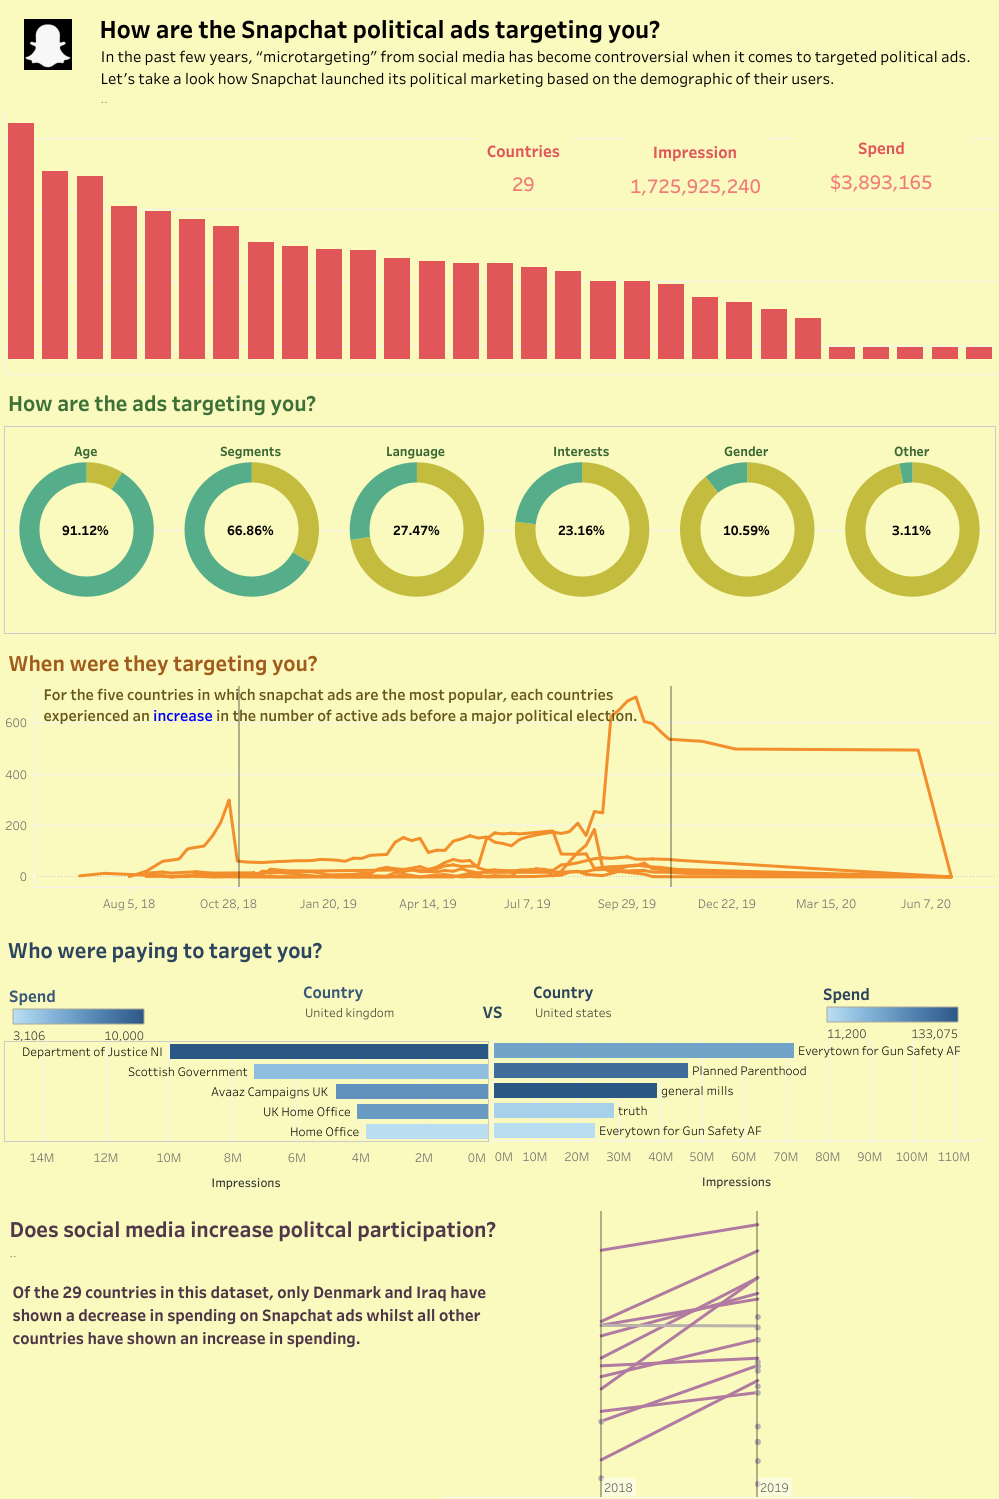

The dashboard page shown, as its layout file describes it:
{"tool":"tableau","page":{"name":"Dashboard 1","canvas":[1000,1500],"ordinal":0},"visuals":[{"type":"worksheet","box":[0,0,1000,1500]},{"type":"worksheet","param":"vert","box":[0,0,1000,1500]},{"type":"worksheet","param":"horz","box":[0,0,1000,1500]},{"type":"worksheet","param":"horz","box":[0,0,1000,1500]},{"type":"worksheet","box":[0,0,1000,1500]},{"type":"worksheet","box":[0,0,1000,106]},{"type":"worksheet","title":"Icon","mark":"Shape","box":[11,8,78,76]},{"type":"worksheet","box":[97,8,827,39]},{"type":"worksheet","box":[98,43,876,65]},{"type":"worksheet","title":"Number of ads","mark":"Automatic","rows":["Number of Ads"],"cols":["Country"],"box":[0,106,1000,272]},{"type":"worksheet","title":"Spend","mark":"Automatic","box":[792,130,196,69]},{"type":"worksheet","title":"Countries","mark":"Automatic","box":[475,133,106,77]},{"type":"worksheet","title":"Impression","mark":"Automatic","box":[625,134,156,83]},{"type":"worksheet","title":"Donut","mark":"Pie","rows":["Calculation_832321558678163458","Calculation_832321558684078087"],"cols":["Pivot Field Names"],"box":[0,378,1000,260]},{"type":"worksheet","title":"Time-based Targeting","mark":"Automatic","rows":["Calculation_832321558720765963"],"cols":["Pivot Field Values"],"box":[0,638,1000,283]},{"type":"worksheet","box":[41,663,644,81]},{"type":"worksheet","box":[5,916,329,66]},{"type":"worksheet","box":[0,921,1000,579]},{"type":"worksheet","title":"Bar2","mark":"Automatic","rows":["Country","Ad ID"],"cols":["Impressions"],"param":"[federated.1ss1n7v1ix2qau1dme7e10w2lf1o].[none:Country:nk]","box":[299,975,160,60]},{"type":"worksheet","title":"Bar1","mark":"Automatic","rows":["Ad ID"],"cols":["Impressions"],"param":"[federated.1ss1n7v1ix2qau1dme7e10w2lf1o].[sum:Spend:qk]","box":[823,978,140,76]},{"type":"worksheet","title":"Bar1","mark":"Automatic","rows":["Ad ID"],"cols":["Impressions"],"param":"[federated.1ss1n7v1ix2qau1dme7e10w2lf1o].[none:Country:nk]","box":[533,979,168,49]},{"type":"worksheet","title":"Bar2","mark":"Automatic","rows":["Country","Ad ID"],"cols":["Impressions"],"param":"[federated.1ss1n7v1ix2qau1dme7e10w2lf1o].[sum:Spend:qk]","box":[9,980,140,76]},{"type":"worksheet","box":[480,990,37,42]},{"type":"worksheet","title":"Bar1","mark":"Automatic","rows":["Ad ID"],"cols":["Impressions"],"box":[493,1040,508,178]},{"type":"worksheet","title":"Bar2","mark":"Automatic","rows":["Country","Ad ID"],"cols":["Impressions"],"box":[4,1041,485,160]},{"type":"worksheet","title":"Slope","mark":"Automatic","rows":["Spend"],"cols":["StartDate"],"box":[444,1211,470,286]},{"type":"worksheet","box":[7,1213,617,49]},{"type":"worksheet","box":[10,1243,528,143]}]}

Visuals, with their boxes in screenshot pixels (x1, y1, x2, y2), scaled from the page's 1000x1500 canvas onto the 999x1499 screenshot:
worksheet: left=0, top=0, right=998, bottom=1498
worksheet: left=0, top=0, right=998, bottom=1498
worksheet: left=0, top=0, right=998, bottom=1498
worksheet: left=0, top=0, right=998, bottom=1498
worksheet: left=0, top=0, right=998, bottom=1498
worksheet: left=0, top=0, right=998, bottom=106
"Icon" worksheet (Shape marks): left=11, top=8, right=89, bottom=84
worksheet: left=97, top=8, right=923, bottom=47
worksheet: left=98, top=43, right=973, bottom=108
"Number of ads" worksheet: left=0, top=106, right=998, bottom=378
"Spend" worksheet: left=791, top=130, right=987, bottom=199
"Countries" worksheet: left=475, top=133, right=580, bottom=210
"Impression" worksheet: left=624, top=134, right=780, bottom=217
"Donut" worksheet (Pie marks): left=0, top=378, right=998, bottom=638
"Time-based Targeting" worksheet: left=0, top=638, right=998, bottom=920
worksheet: left=41, top=663, right=684, bottom=744
worksheet: left=5, top=915, right=334, bottom=981
worksheet: left=0, top=920, right=998, bottom=1498
"Bar2" worksheet: left=299, top=974, right=459, bottom=1034
"Bar1" worksheet: left=822, top=977, right=962, bottom=1053
"Bar1" worksheet: left=532, top=978, right=700, bottom=1027
"Bar2" worksheet: left=9, top=979, right=149, bottom=1055
worksheet: left=480, top=989, right=516, bottom=1031
"Bar1" worksheet: left=493, top=1039, right=998, bottom=1217
"Bar2" worksheet: left=4, top=1040, right=489, bottom=1200
"Slope" worksheet: left=444, top=1210, right=913, bottom=1496
worksheet: left=7, top=1212, right=623, bottom=1261
worksheet: left=10, top=1242, right=537, bottom=1385
